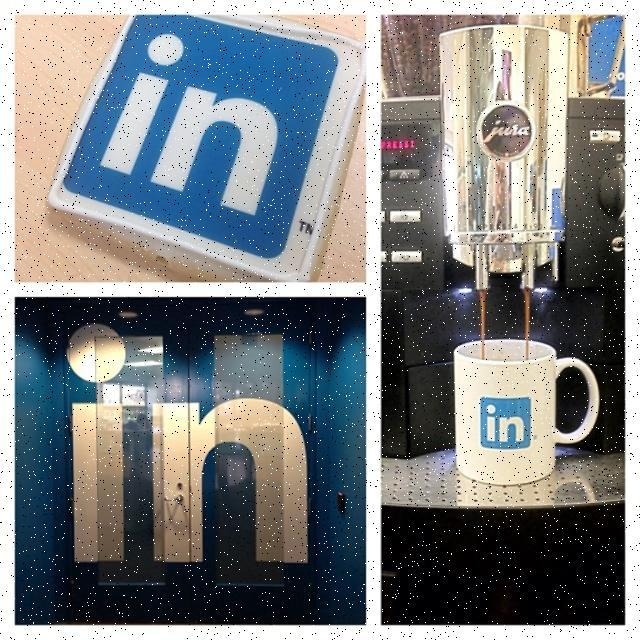Coffee-Machine: (425, 7, 621, 363)
